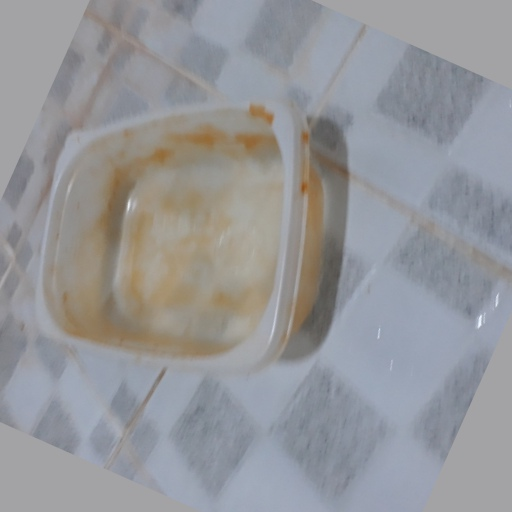Plastic_4: (37, 98, 328, 364)
